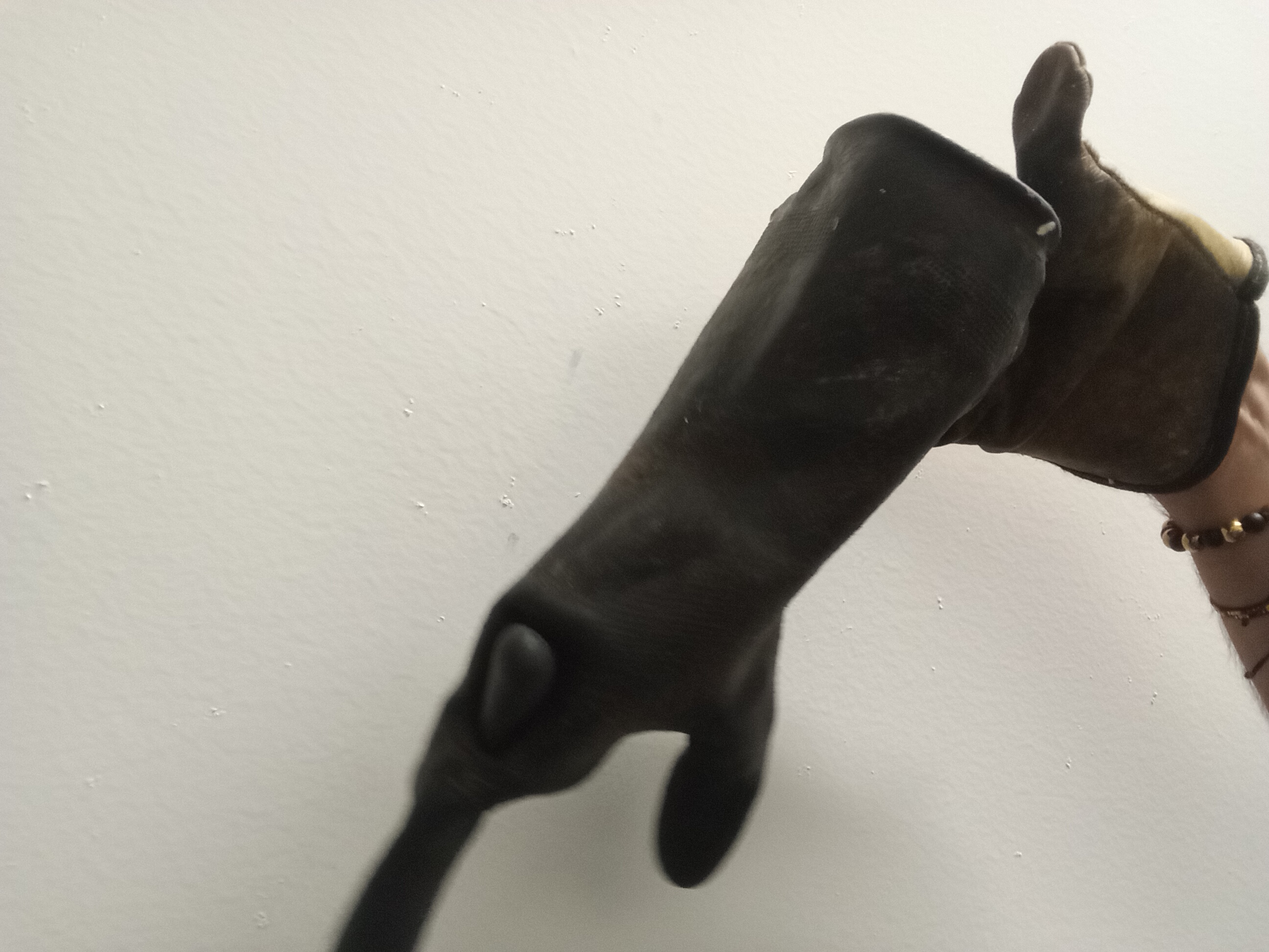Ordinario: (335, 113, 1063, 947)
